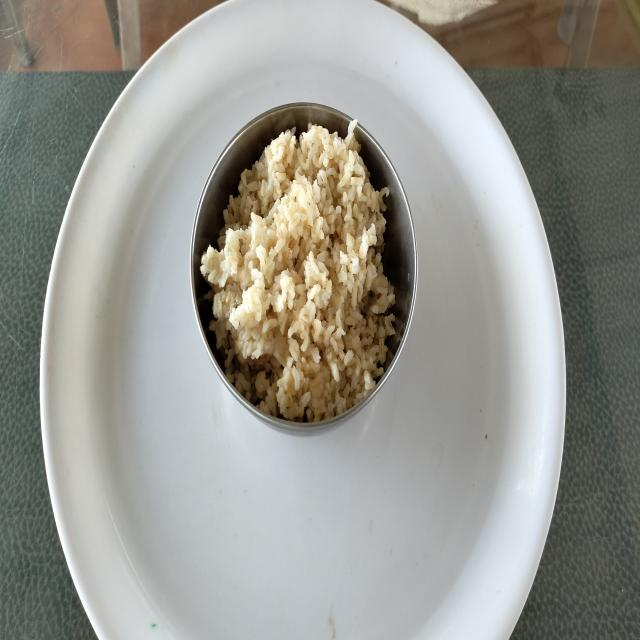brown-rice: (201, 122, 395, 423)
